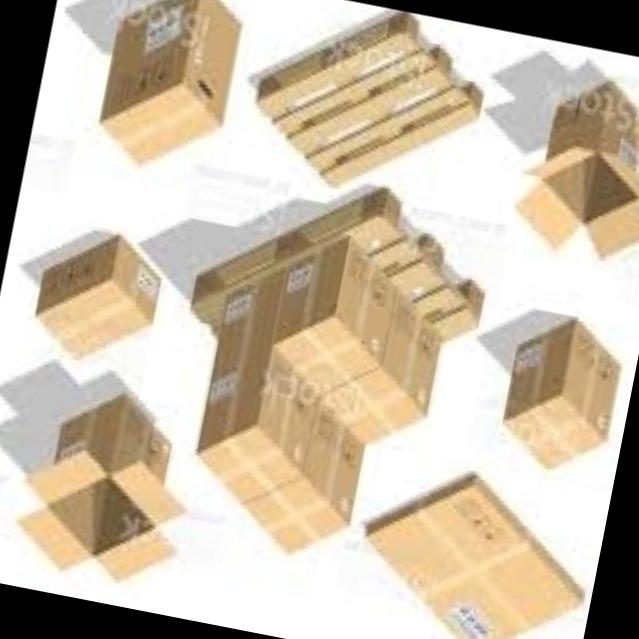cardboard paper: (193, 191, 442, 552), (367, 478, 584, 639), (100, 0, 240, 163), (43, 394, 177, 554), (503, 319, 620, 467), (540, 85, 639, 253), (35, 236, 159, 354)
